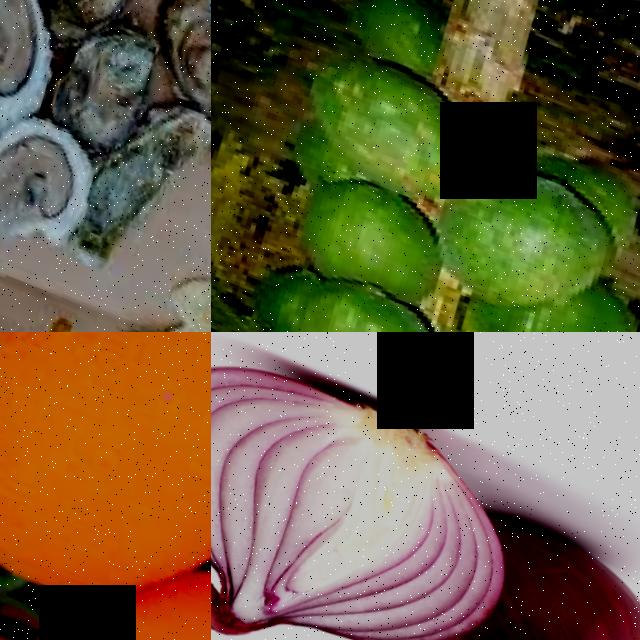onion: (211, 332, 492, 640), (443, 499, 640, 640)
orange: (0, 332, 211, 605), (1, 523, 211, 640)
oysters: (40, 3, 165, 160), (0, 93, 104, 275), (134, 0, 211, 126), (25, 0, 147, 66), (0, 0, 55, 103)
pawpaw: (427, 133, 632, 332), (289, 31, 471, 201), (285, 154, 451, 304), (287, 254, 401, 332)
